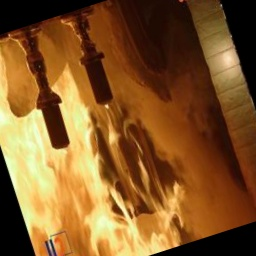fire: (11, 135, 176, 256)
